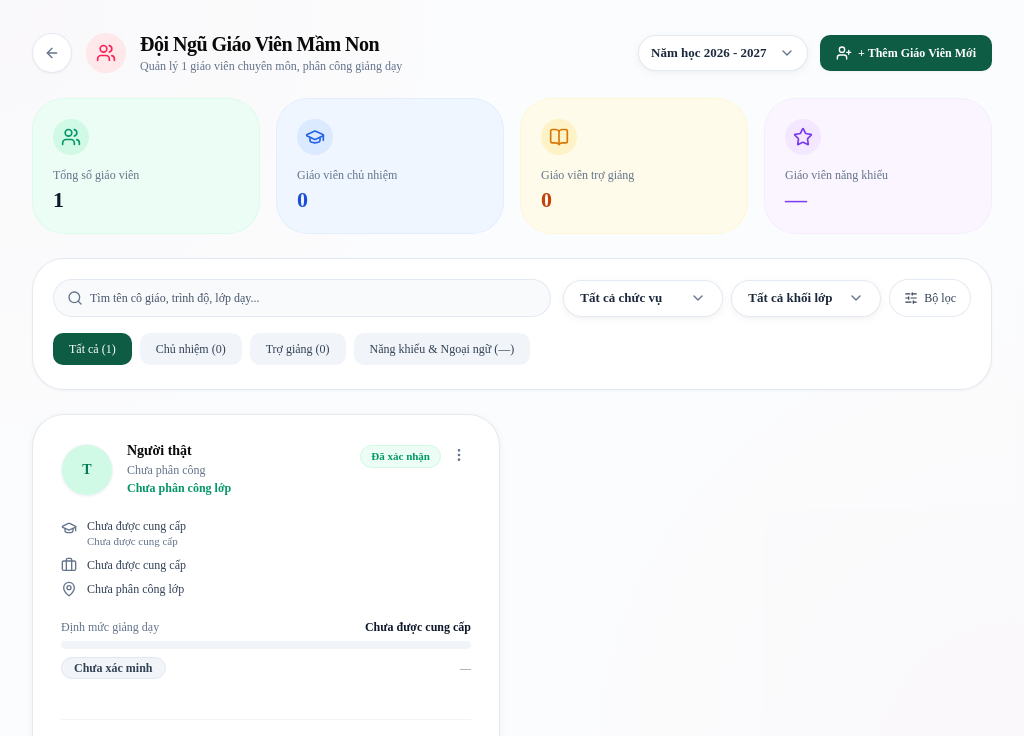
Test: confirms an existing Party through the current branch-scoped API and reloads the teacher list
Check: the heading "Người thật" is shown, box [127, 443, 192, 458]
Step 1. Click the button "+ Thêm Giáo Viên Mới" → [906, 53], box [820, 35, 992, 71]
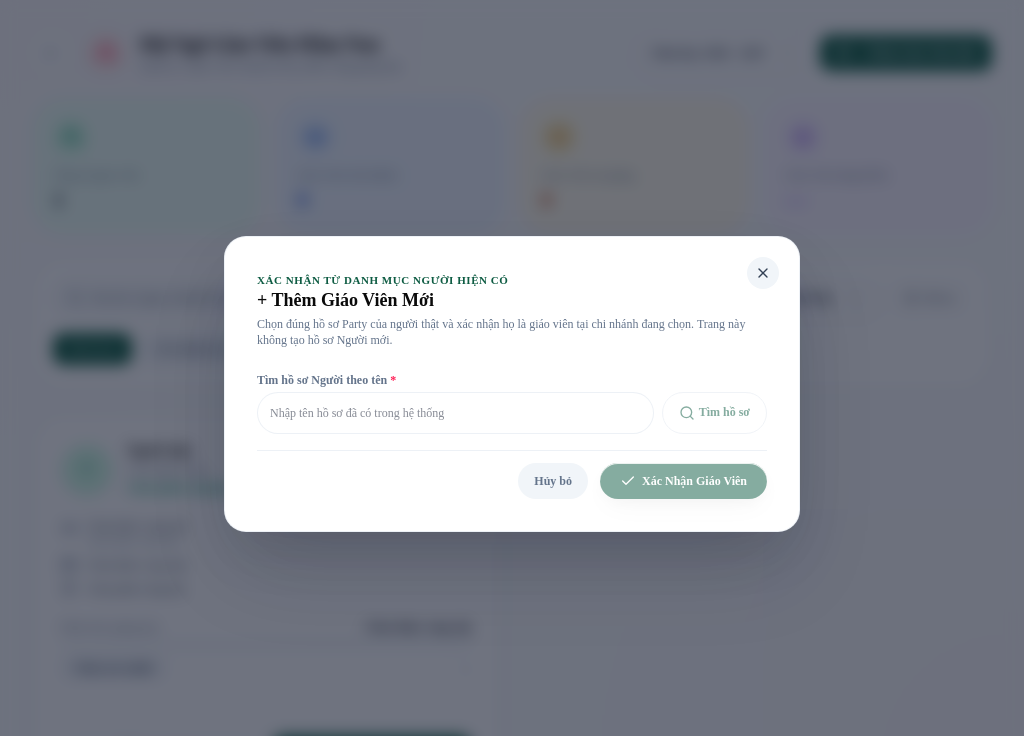
Step 2. Type "Người chưa xác nhận" into the search field with placeholder "Nhập tên hồ sơ đã có trong hệ thống" → [455, 413], box [257, 392, 654, 434]
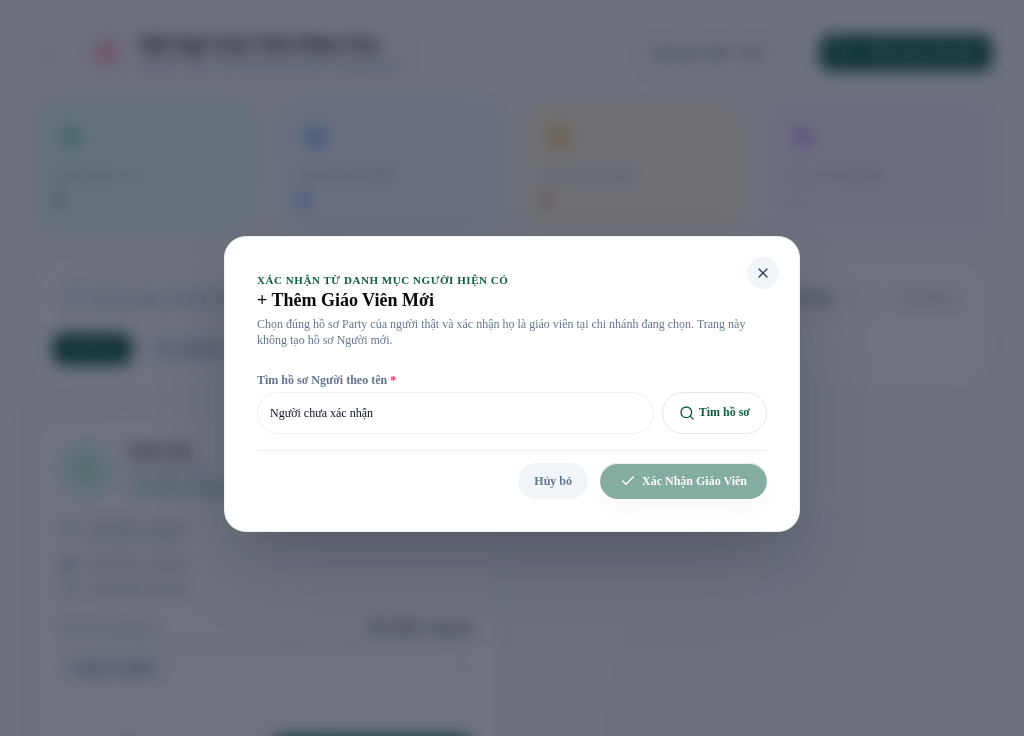
Step 3. Click the button "Tìm hồ sơ" → [714, 413], box [662, 392, 767, 434]
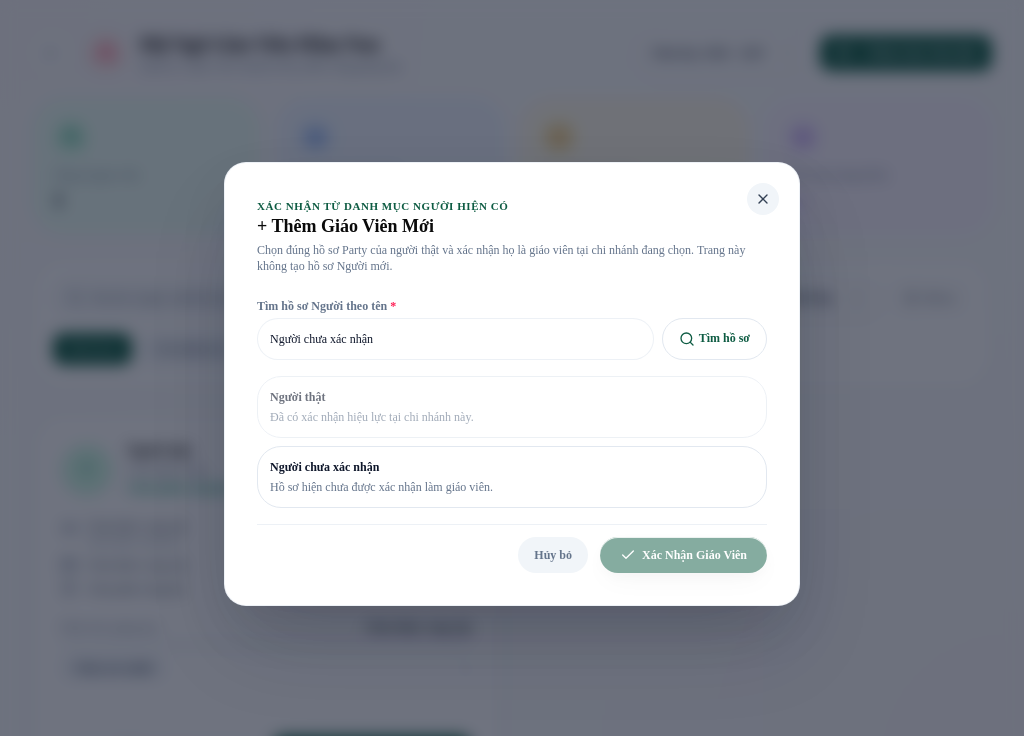
Check: the text "Người chưa xác nhận" is shown, box [270, 460, 379, 474]
Step 4. Click the button "Người chưa xác nhận" → [325, 467], box [257, 446, 767, 508]
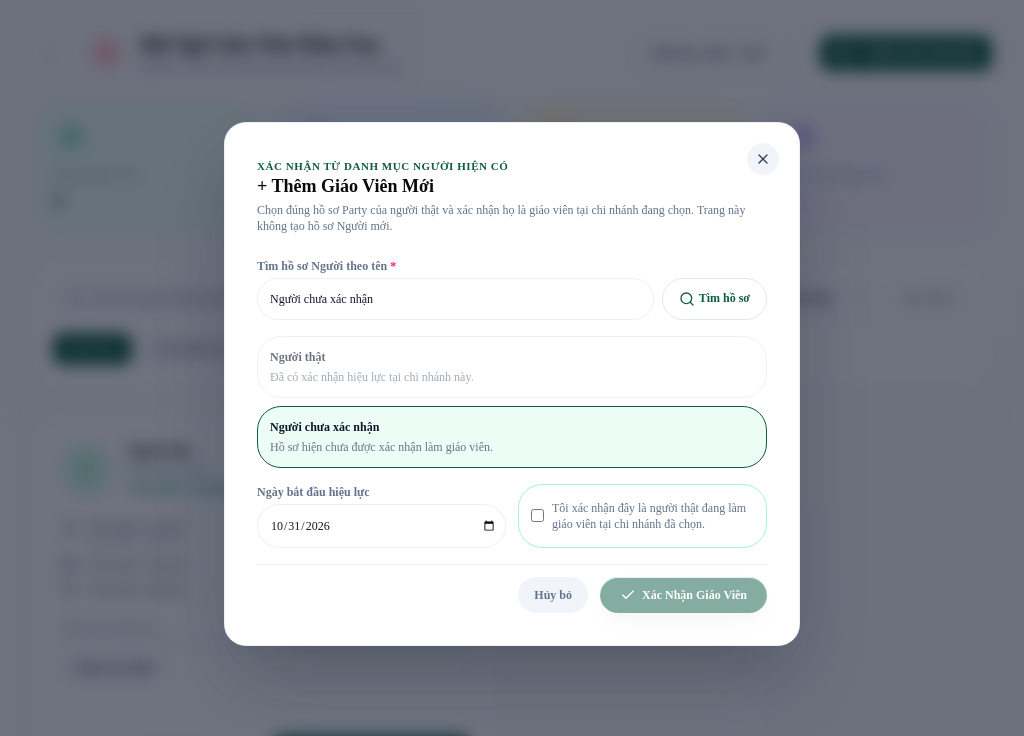
Check: the button "Xác Nhận Giáo Viên" is disabled, box [600, 577, 767, 613]
Step 5. Click the checkbox labelled "Tôi xác nhận đây là người thật đang làm giáo viên tại chi nhánh đã chọn." → [538, 516], box [531, 509, 544, 522]
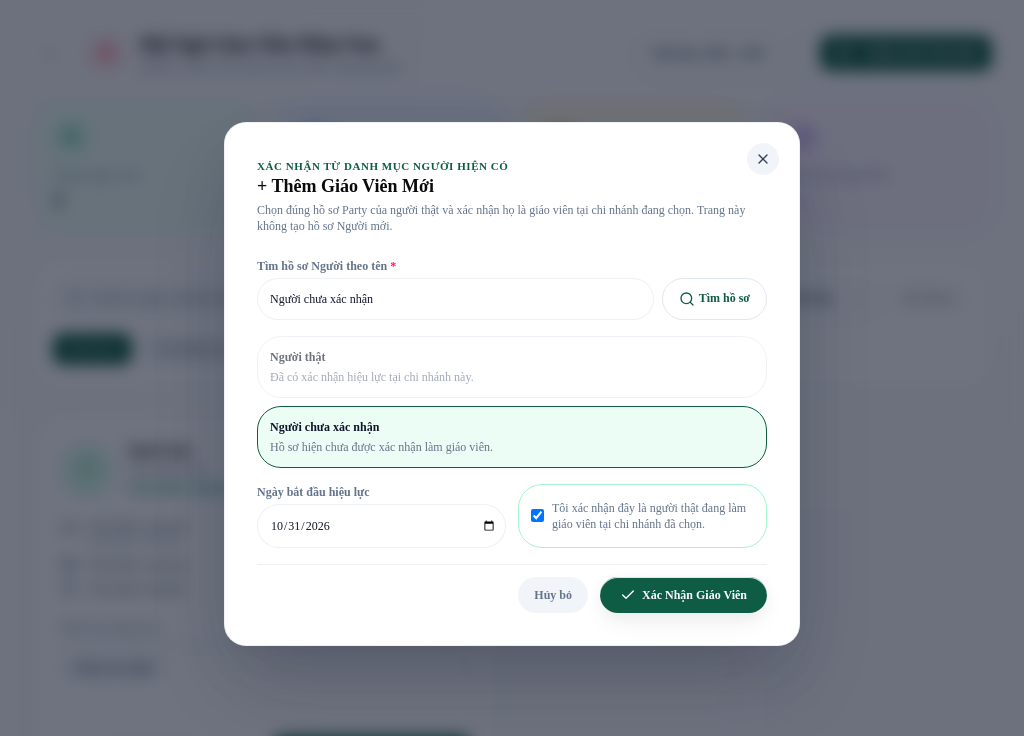
Step 6. Click the button "Xác Nhận Giáo Viên" → [684, 595], box [600, 577, 767, 613]
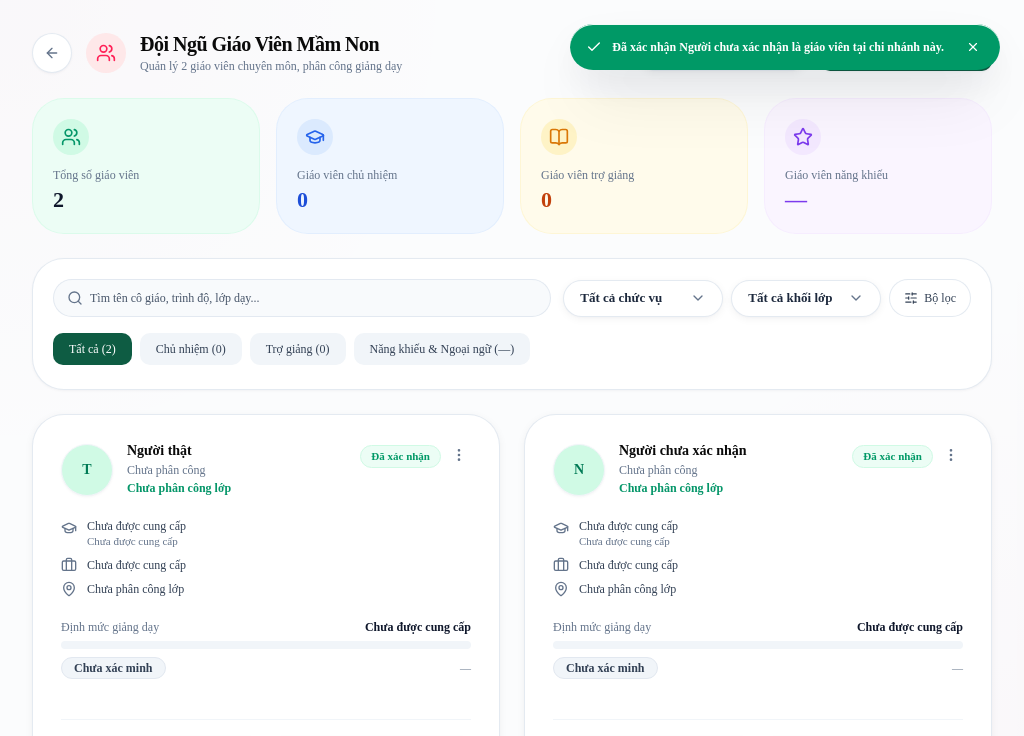
Check: the text "Đã xác nhận Người chưa xác nhận là giáo viên tại chi nhánh này." is shown, box [612, 39, 944, 55]
Check: the heading "Người chưa xác nhận" is shown, box [619, 443, 747, 460]
